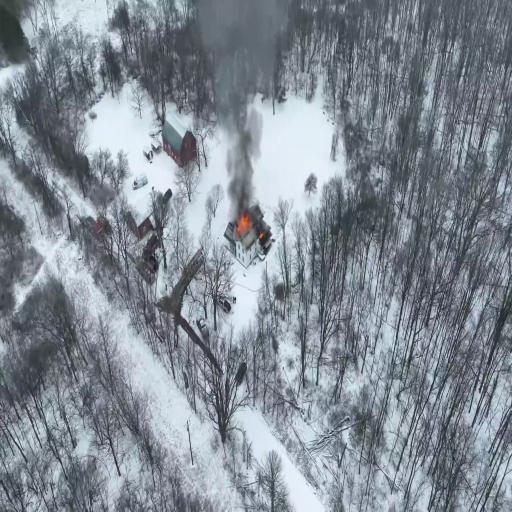fire: (238, 209, 251, 230)
smoke: (217, 11, 260, 194)
